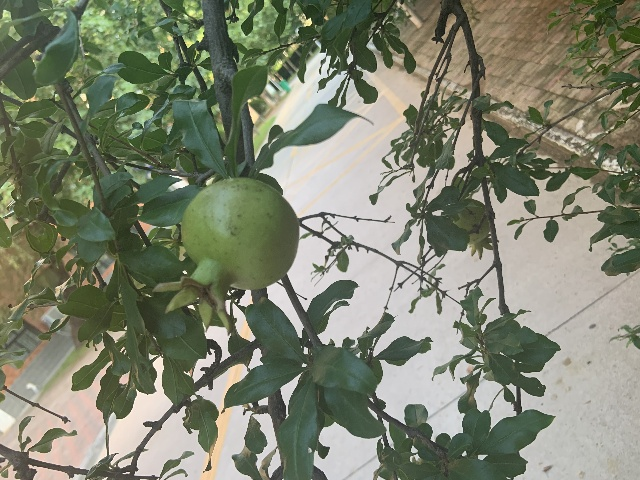mid-growth: (153, 177, 299, 337), (453, 198, 500, 260)
